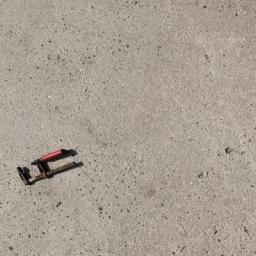FOD: (12, 148, 85, 189)
